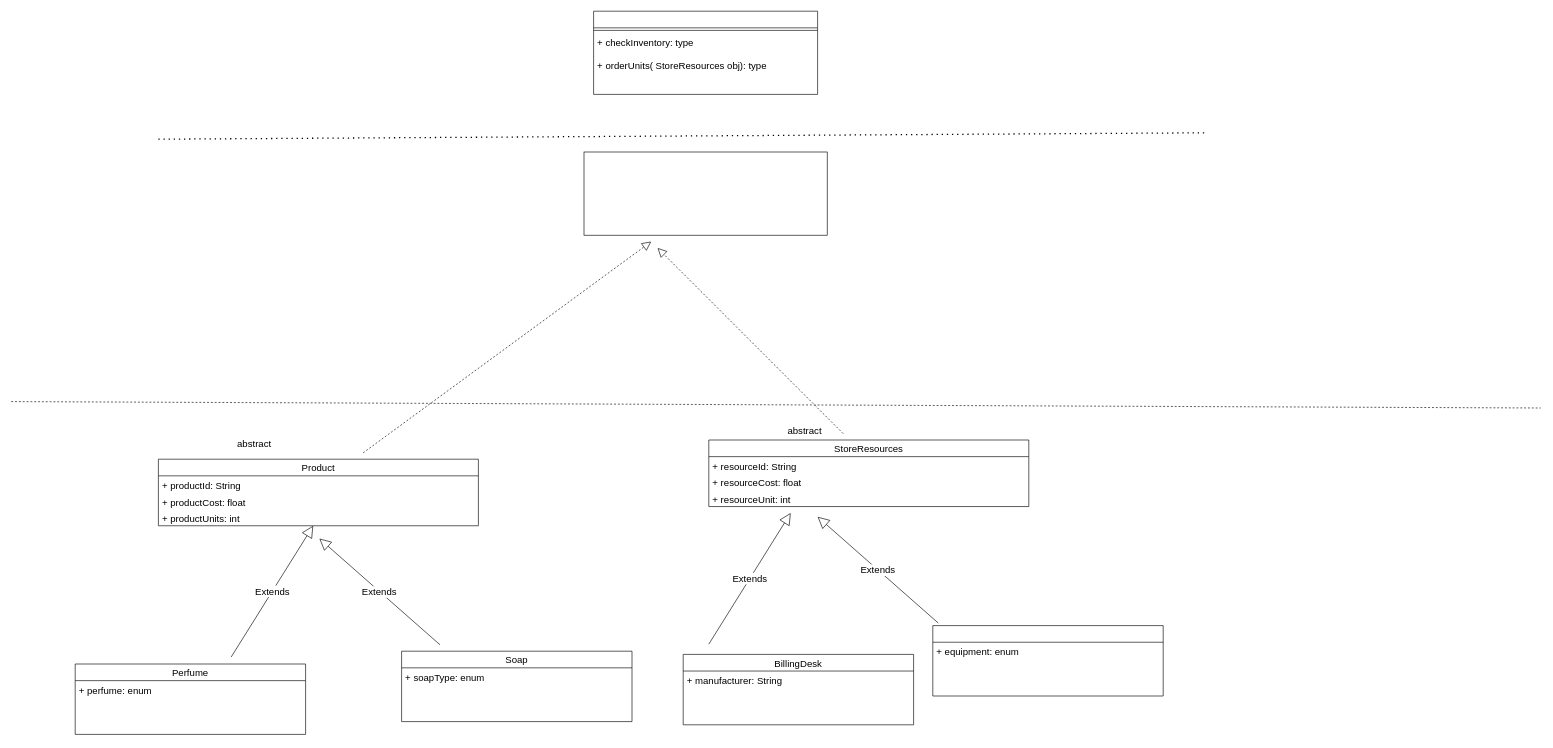
The diagram is 1553 pixels wide and 748 high, and some of its shapes have lost their labels. The box of each missing label's shape, as (x1, y1, x2, y2) in pixels:
<<Interface>> Inventory + checkPrice(): Type + orderUnits(): Type: (583, 151, 827, 235)
CleaningEquipment: (932, 625, 1163, 696)
Operations: (593, 11, 818, 94)
